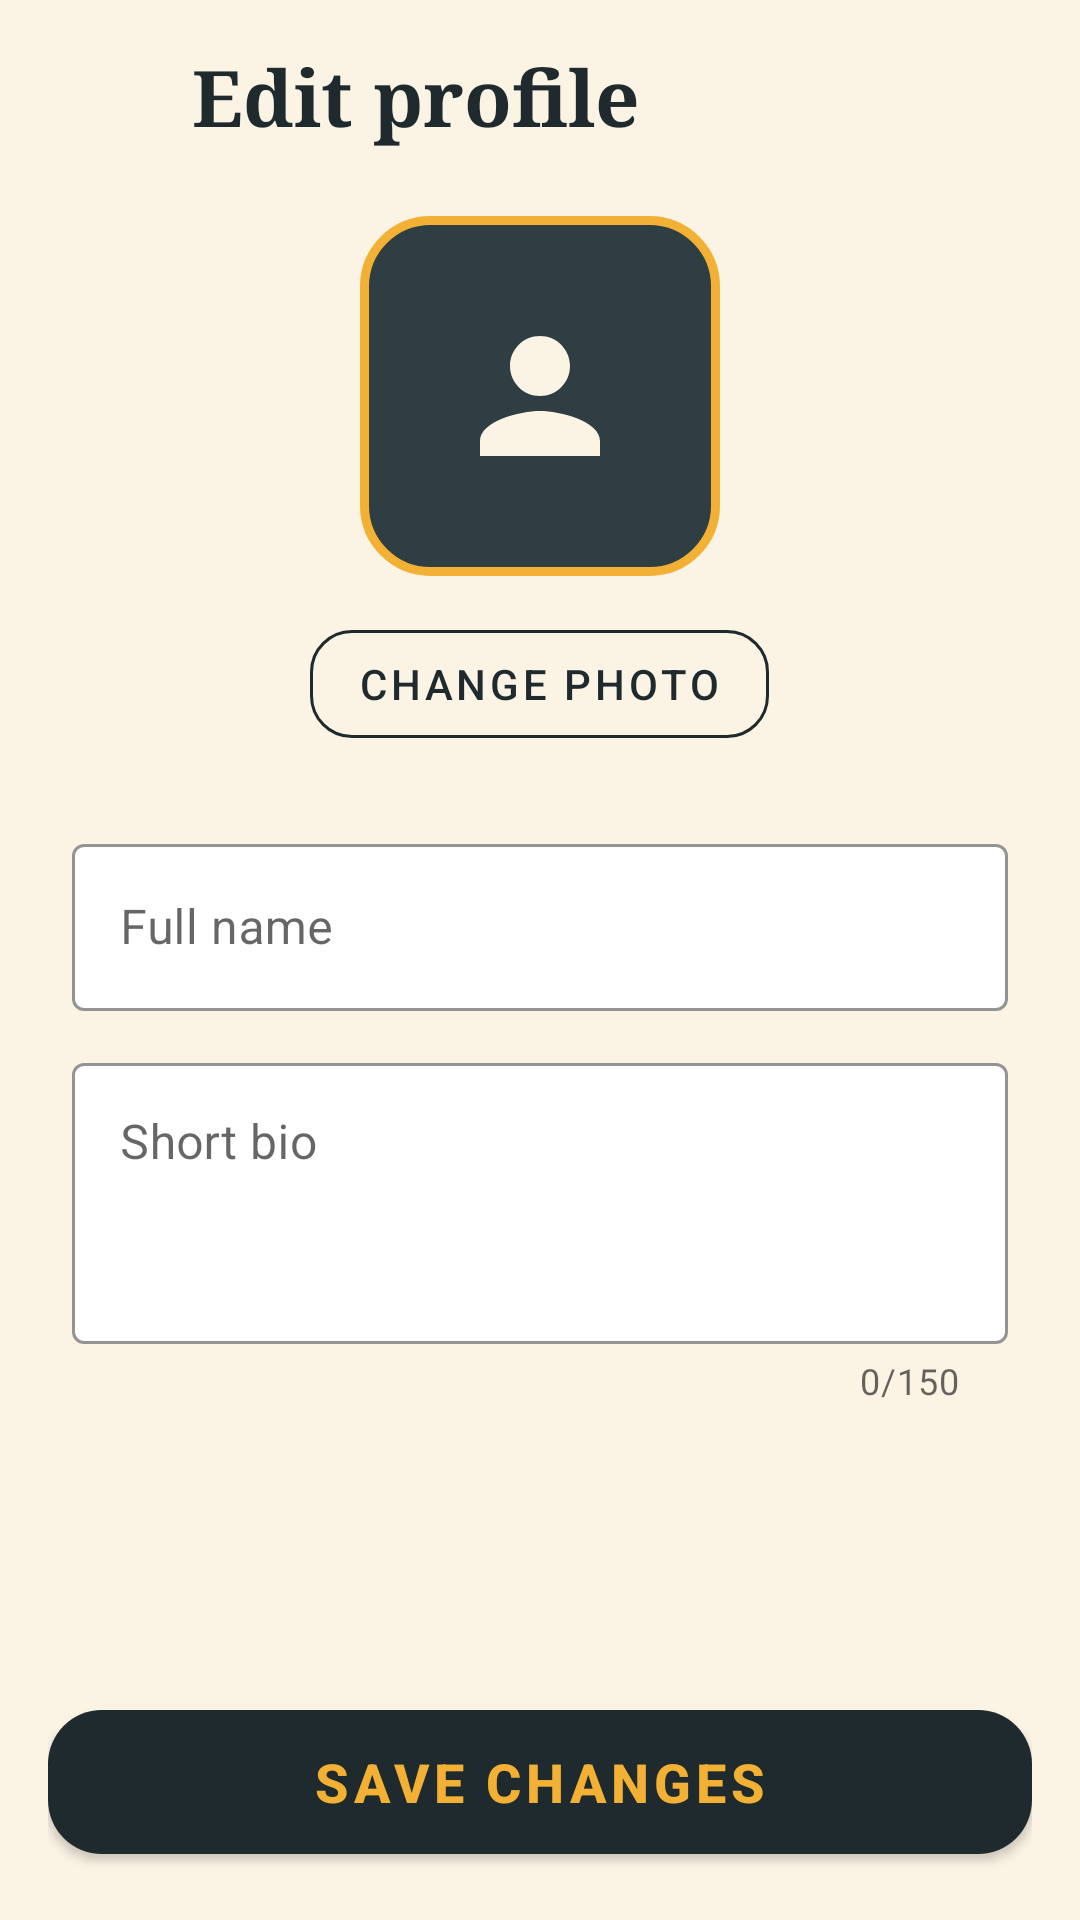

Screen size 1080x1920. Icon name, then its box in pixels as box=[x1, y1, x2, y2]:
Profile picture. Tap to change it: box=[360, 216, 720, 576]
